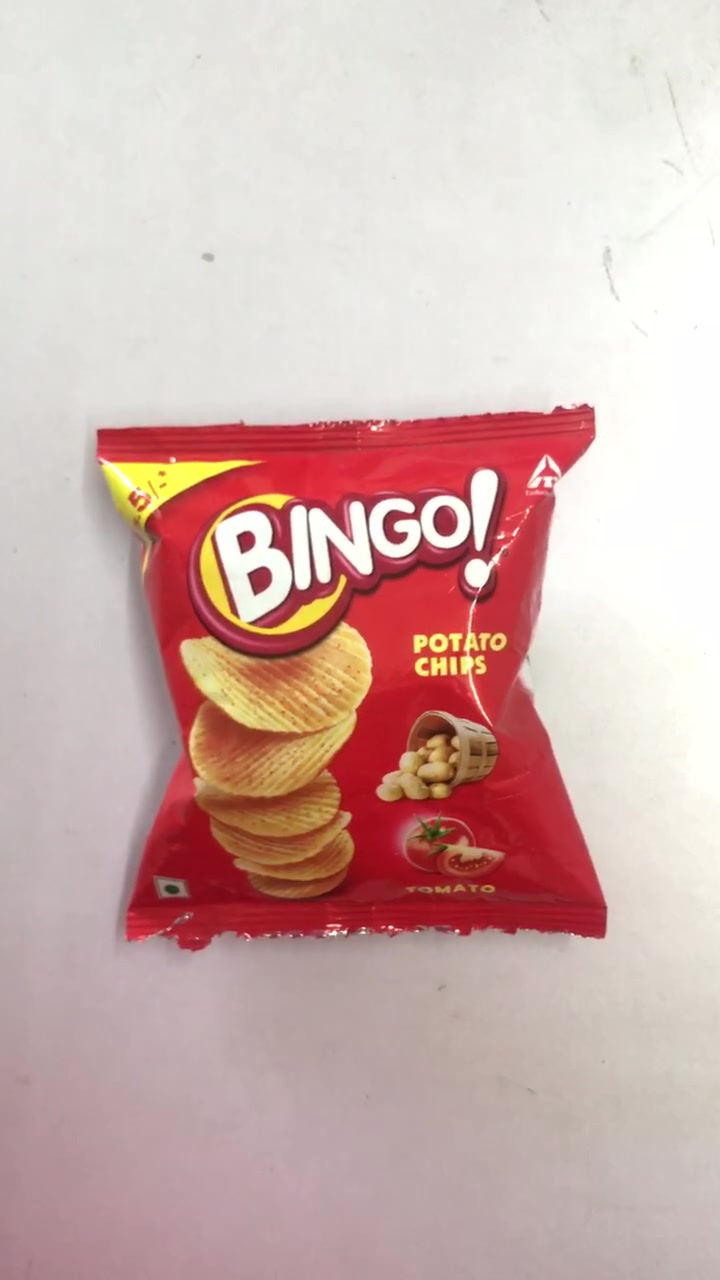Bingo: (99, 430, 599, 932)
